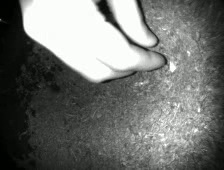corn: (168, 57, 178, 74)
